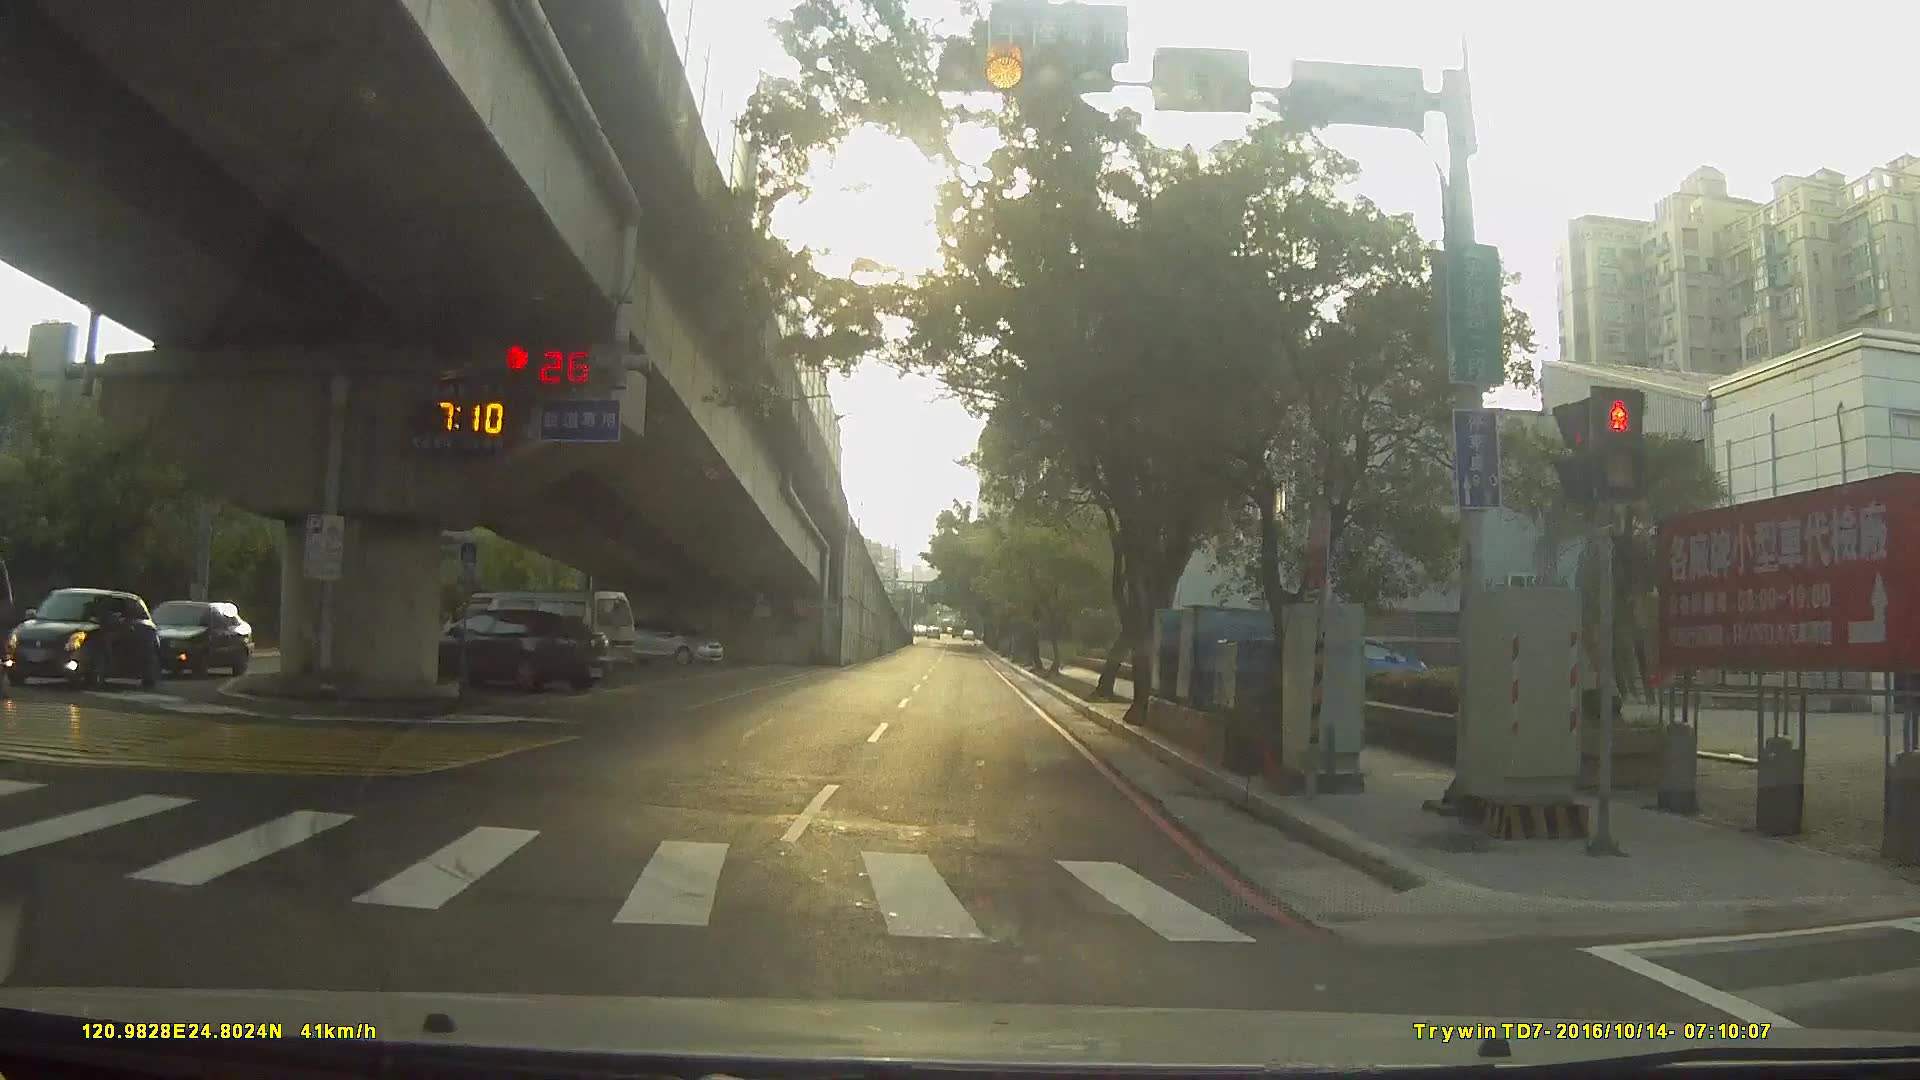vehicle: (1, 578, 170, 692), (433, 588, 632, 682), (400, 609, 603, 698), (123, 595, 264, 678), (603, 615, 723, 669)
